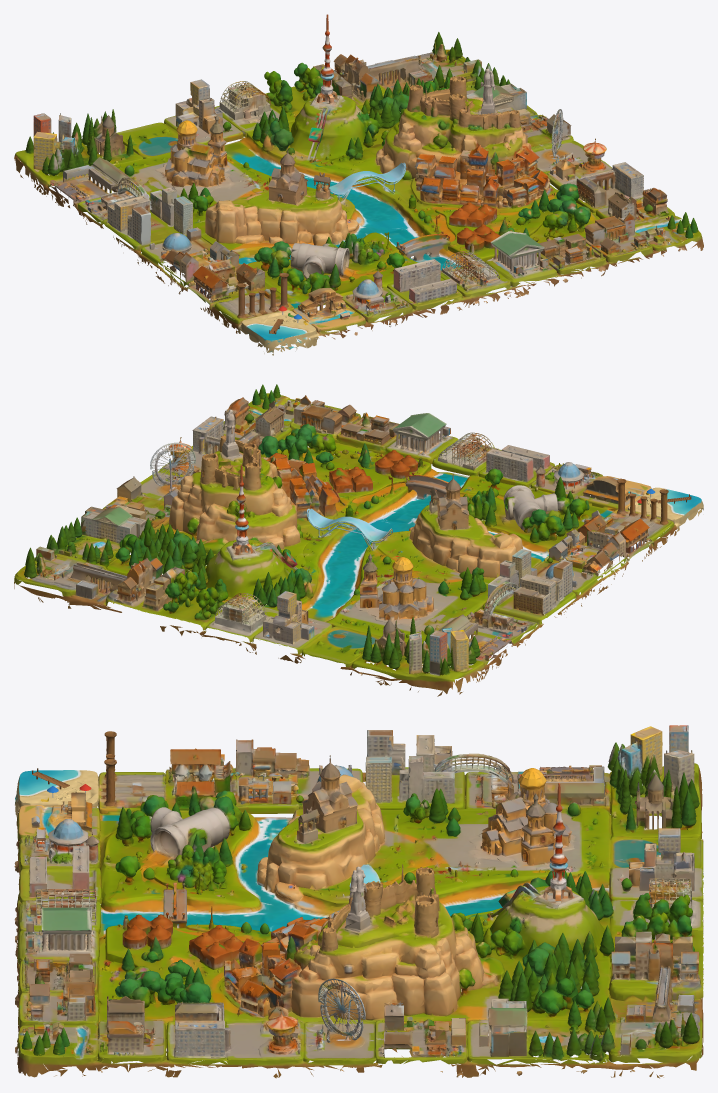
The model's file is m_tb_city.glb.
3 views of the same model, one above another, from view 1: azimuth 30°, elevation 25°; view 2: azimuth 150°, elevation 25°; view 3: azimuth 270°, elevation 25° (orthographic). The views are drawn at different scales.
Parts seen in each view (by area): view 1: city; view 2: city; view 3: city.
Part boxes in pixels (<box>): city: <box>14,14,703,355</box>; city: <box>14,384,703,696</box>; city: <box>14,725,703,1078</box>.
Bounding box in the file's own units: 9.11 × 2.62 × 9.12.
Materials: 1 (1 with a texture image).
